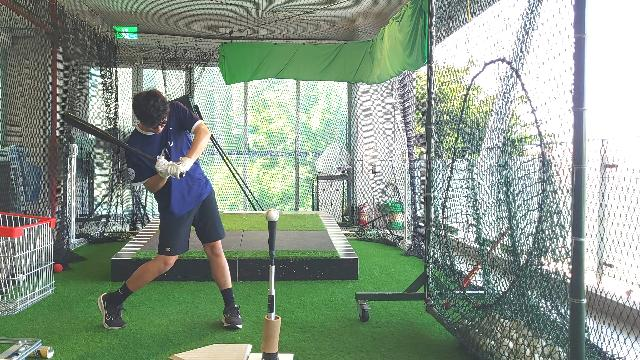baseball bat: (62, 110, 158, 164)
